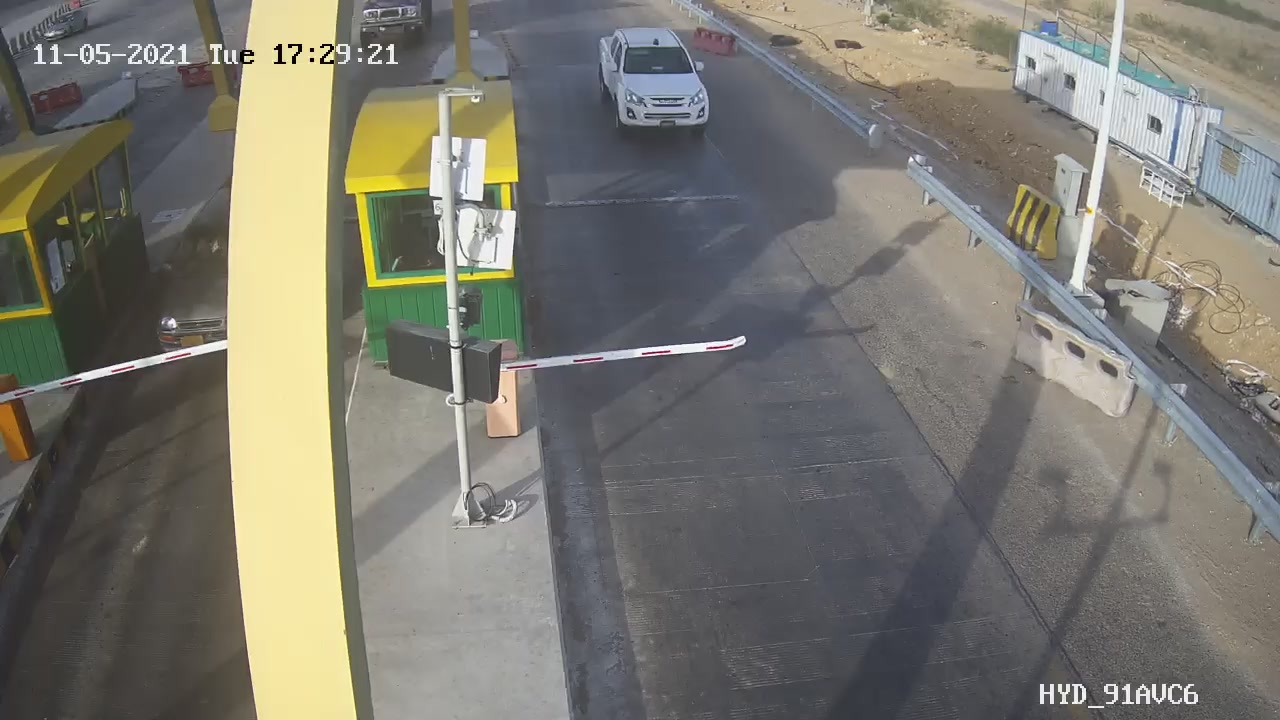F1: (582, 14, 725, 151)
